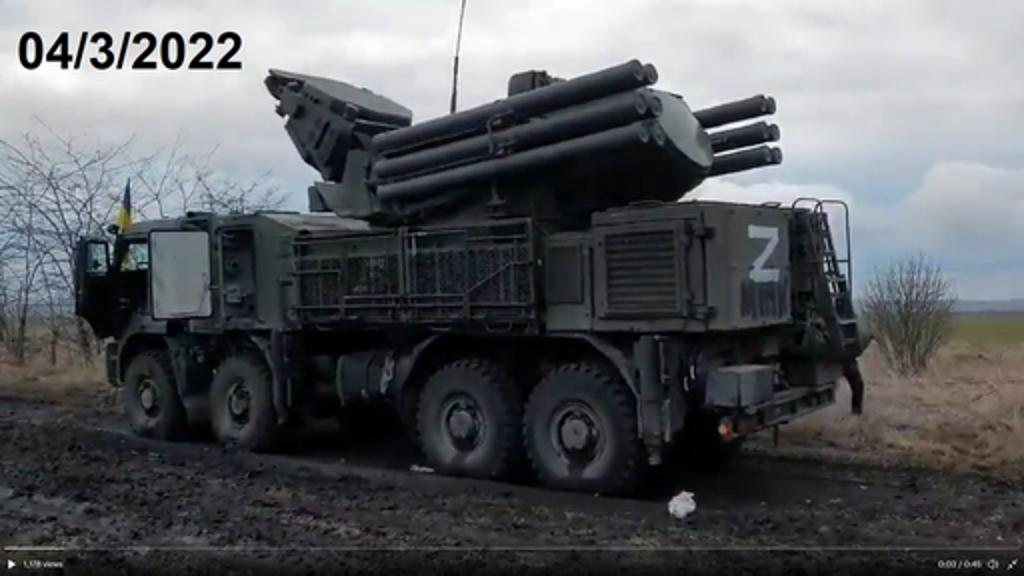MLRS: (66, 56, 868, 498)
